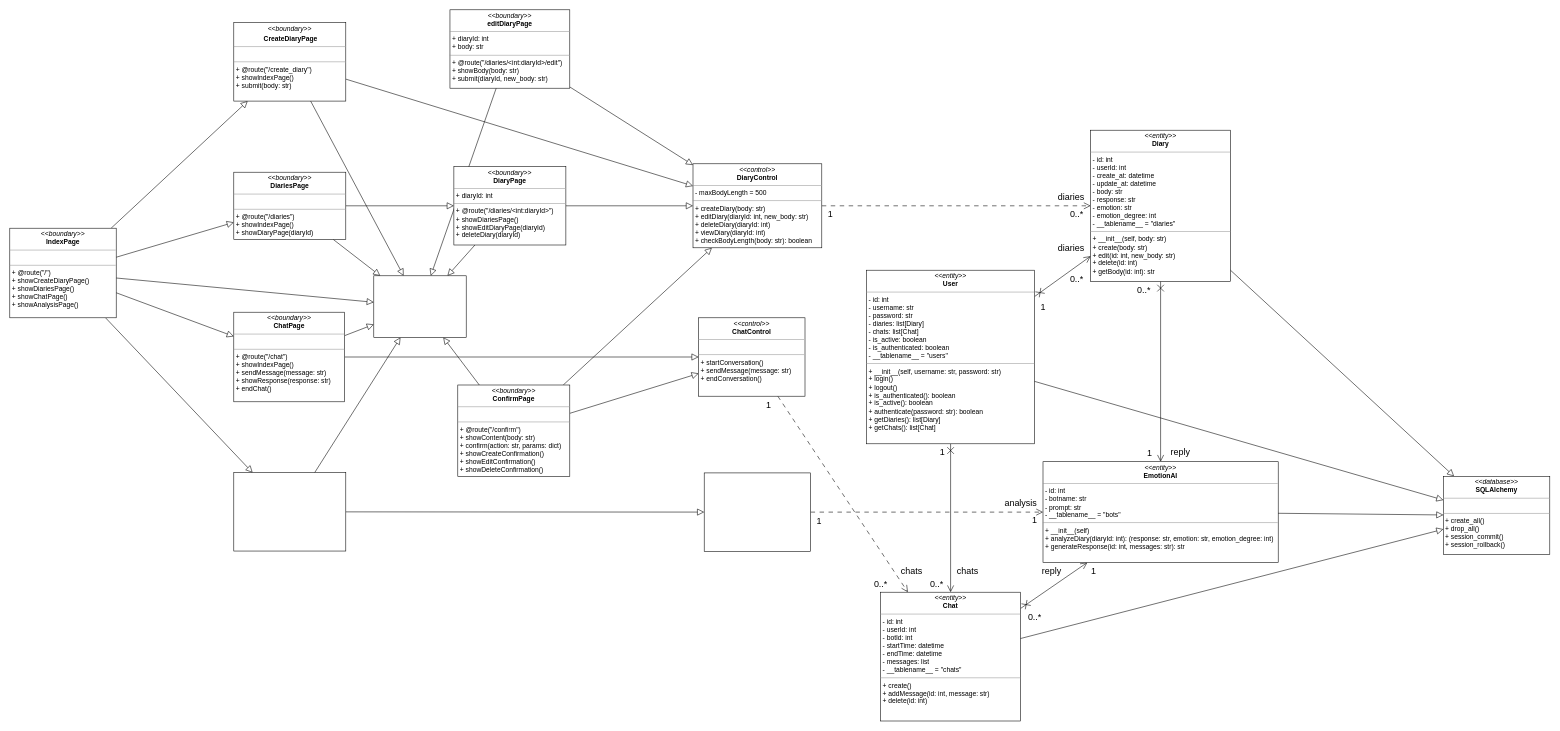
Some shapes in this 1560 by 731 pixel diagram are drawn without their labels. Each missing label, with the centre of its shape:
<<boundary>> AnalysisPage + @route("/analysis") + showIndexPage(): pixel 289 511
<<control>> AnalysisControl + analyzeDiary(diaryId: int): pixel 757 511
<<framework>> Flask + run() + route(): pixel 419 306
